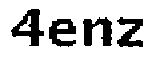4: (7, 3, 47, 51)
e: (48, 13, 83, 52)
n: (82, 14, 116, 51)
z: (116, 12, 149, 53)
